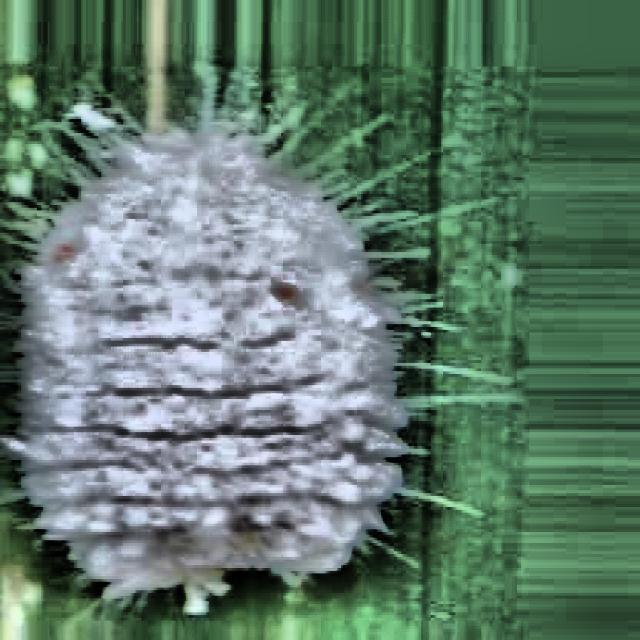Mealy-bug: (0, 71, 442, 640)
